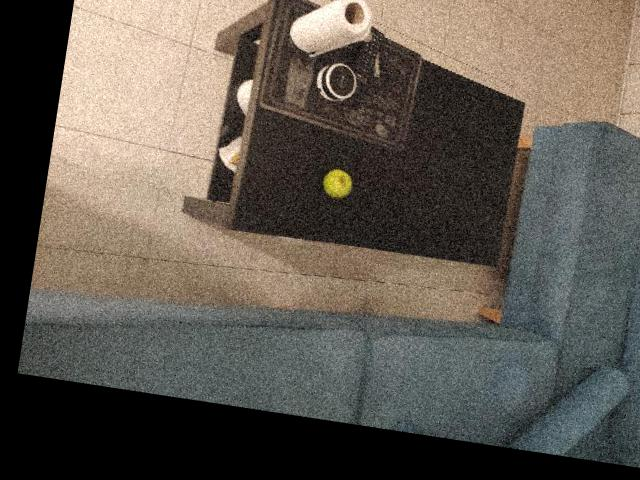apple: (413, 10, 490, 119)
